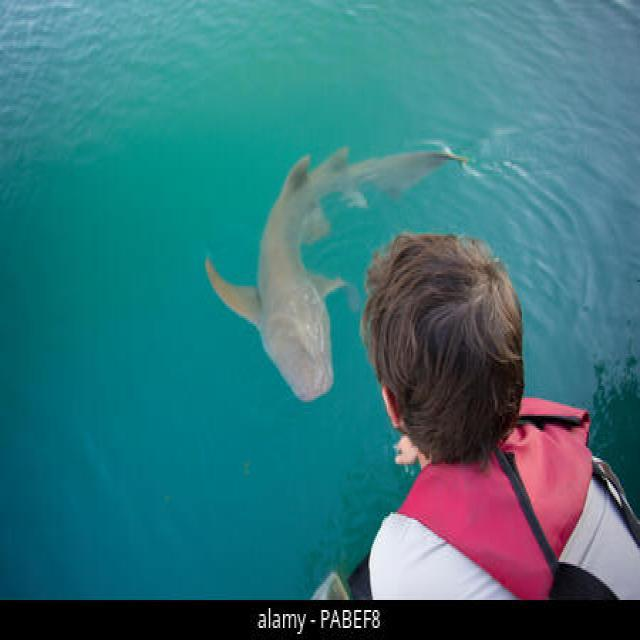Shark: (178, 66, 475, 418)
